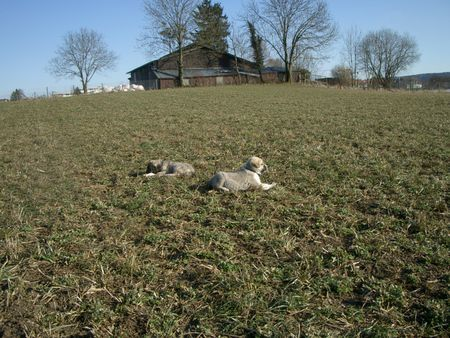kangal: (207, 155, 277, 192), (142, 159, 194, 178)
